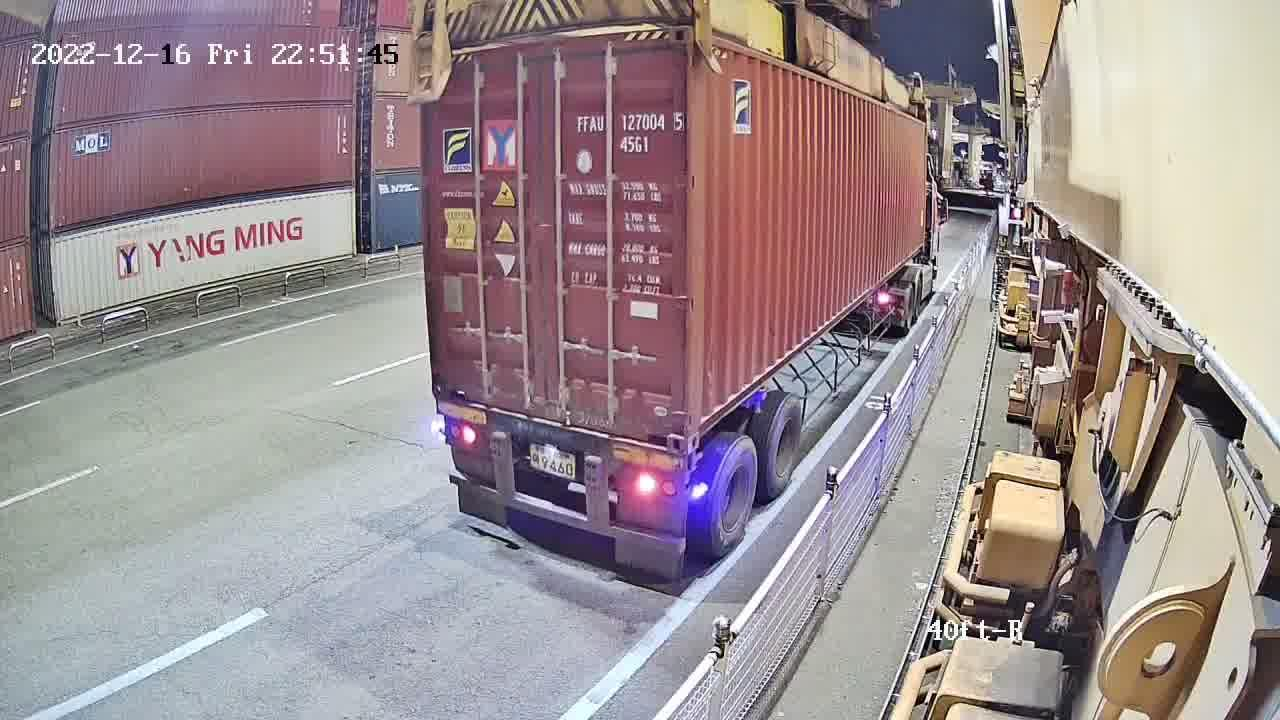Chassis: (436, 399, 682, 476)
Cone: (685, 452, 699, 477)
Hole_L: (688, 390, 714, 458), (431, 359, 465, 397)
Hole_R: (642, 405, 688, 458)
Tire: (710, 440, 759, 549), (764, 396, 802, 496)
